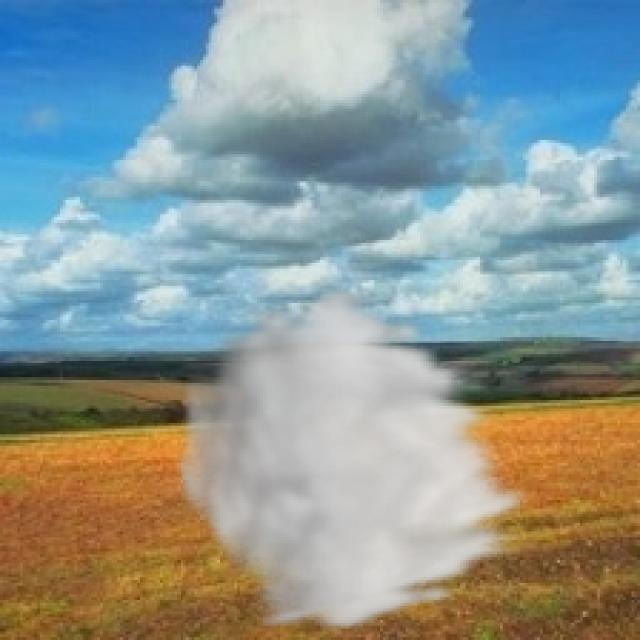smoke: (168, 283, 543, 634)
